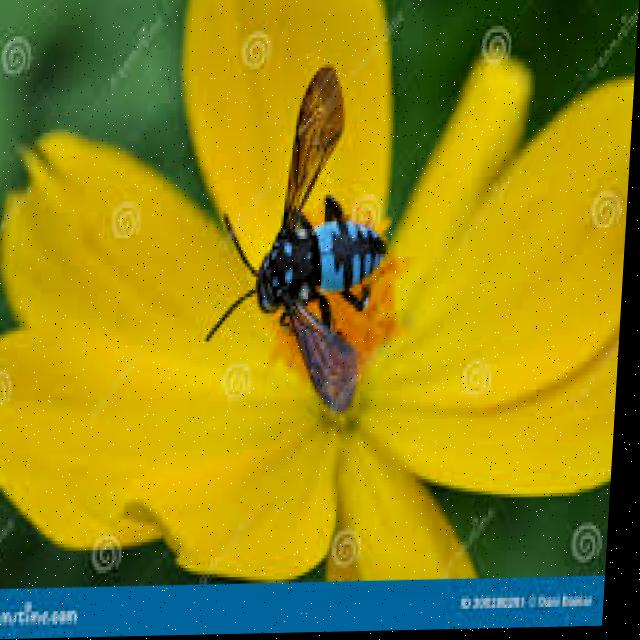Thyreus: (204, 62, 443, 408)
